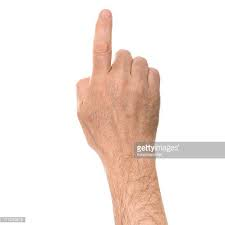hand: (71, 2, 179, 195)
